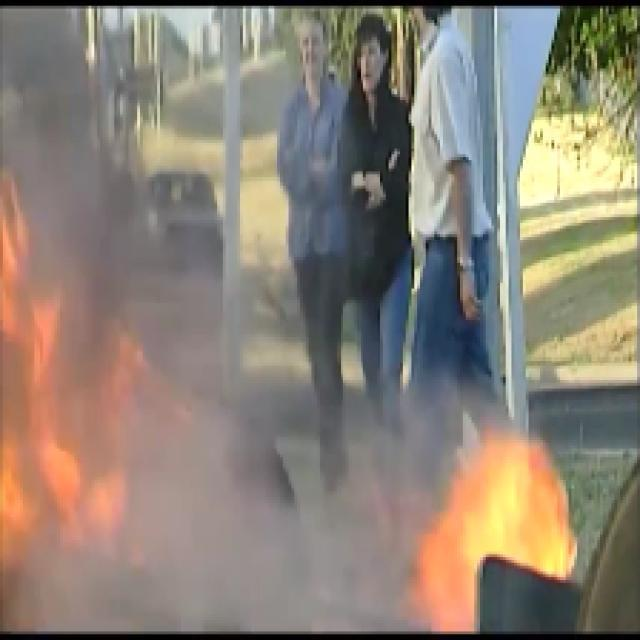Fire: (0, 140, 183, 600), (422, 382, 598, 628)
Smoke: (143, 294, 460, 632), (0, 0, 237, 269)
